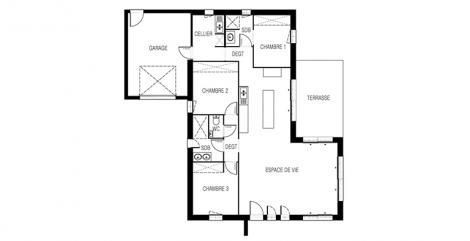door: (248, 201, 290, 216)
room: (237, 140, 345, 219), (123, 6, 191, 100), (191, 150, 238, 220), (189, 61, 238, 118)
wall: (143, 7, 205, 16), (123, 9, 129, 100), (187, 147, 194, 223), (252, 8, 299, 15), (289, 42, 296, 80), (186, 60, 193, 98), (222, 214, 250, 222), (188, 212, 207, 223), (336, 198, 345, 221), (212, 9, 241, 16), (332, 136, 343, 154), (186, 112, 193, 139), (290, 122, 298, 143), (290, 8, 297, 29)
window: (288, 80, 298, 122), (337, 156, 345, 201), (128, 8, 145, 28), (140, 94, 174, 102), (303, 214, 333, 223), (177, 42, 190, 59), (210, 139, 224, 153), (238, 34, 252, 48), (224, 162, 237, 177), (221, 103, 237, 114), (288, 29, 300, 43), (208, 212, 221, 223), (225, 127, 237, 138), (205, 7, 213, 17), (241, 9, 251, 16)
